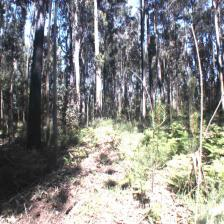trunktrack_idkeyframe: (28, 68, 42, 146), (52, 71, 57, 149)
